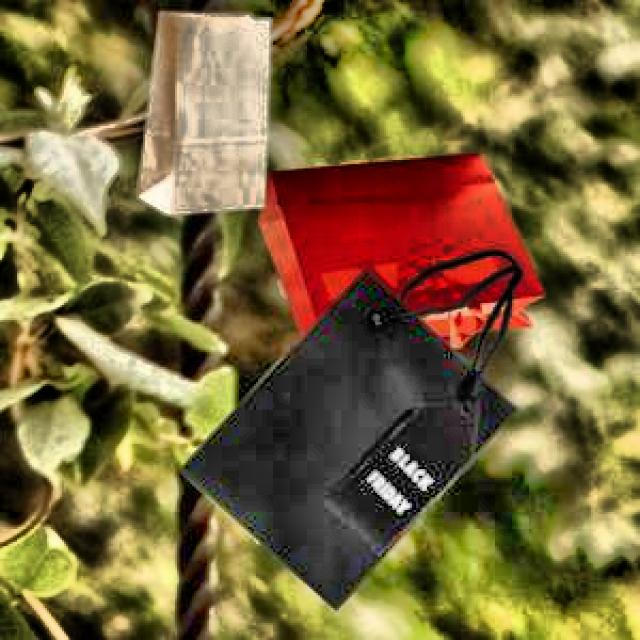Paper-bag: (174, 239, 526, 606), (246, 138, 555, 382), (132, 0, 302, 230)
